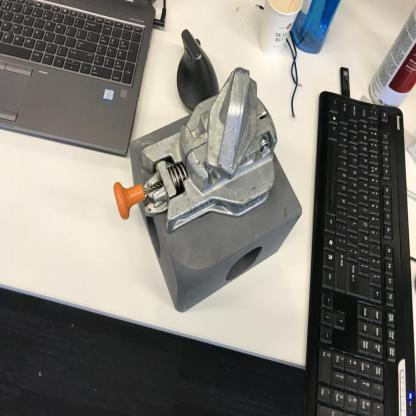CornerCasting: (128, 172, 302, 314)
Twistlock: (111, 63, 297, 238)
